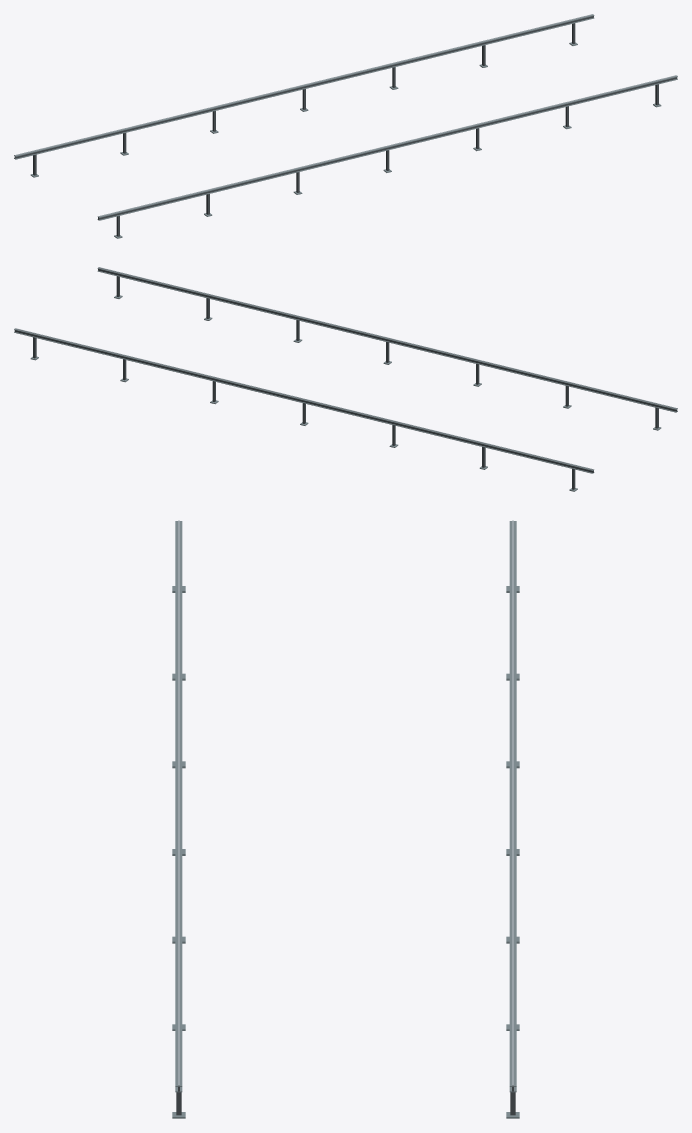
Rendered from unknown_runway.dae.
The picture shows the model from 3 angles, top to bottom: view 1: azimuth 30°, elevation 25°; view 2: azimuth 150°, elevation 25°; view 3: azimuth 270°, elevation 25°; orthographic projection. The views are drawn at different scales.
Parts seen in each view (by area): view 1: unknown_runway; view 2: unknown_runway; view 3: unknown_runway.
Part boxes in pixels (bbox=[...]): unknown_runway: bbox=[14, 14, 677, 238]; unknown_runway: bbox=[14, 267, 677, 491]; unknown_runway: bbox=[172, 520, 519, 1118].
Size of the model in its own units: 58 by 15.08 by 2.43.
